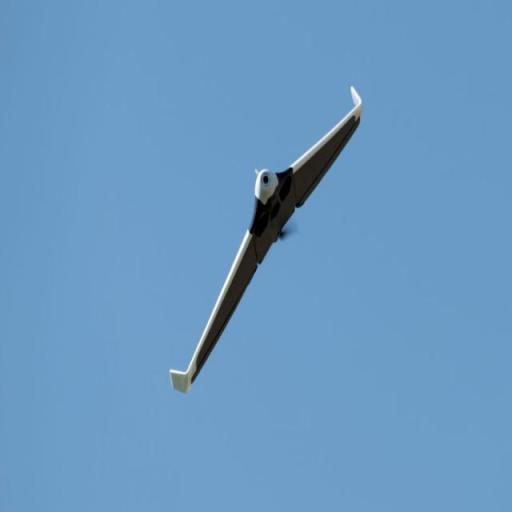uav: (165, 84, 364, 393)
